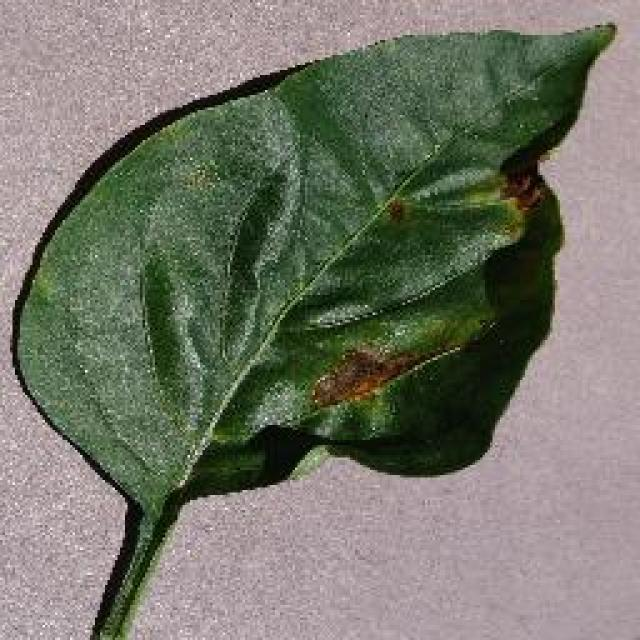Chilli_Bacterial_Spot: (5, 15, 620, 637), (298, 162, 548, 420), (302, 312, 490, 418), (305, 340, 423, 415), (495, 163, 550, 215), (172, 160, 220, 198), (378, 192, 412, 228)
